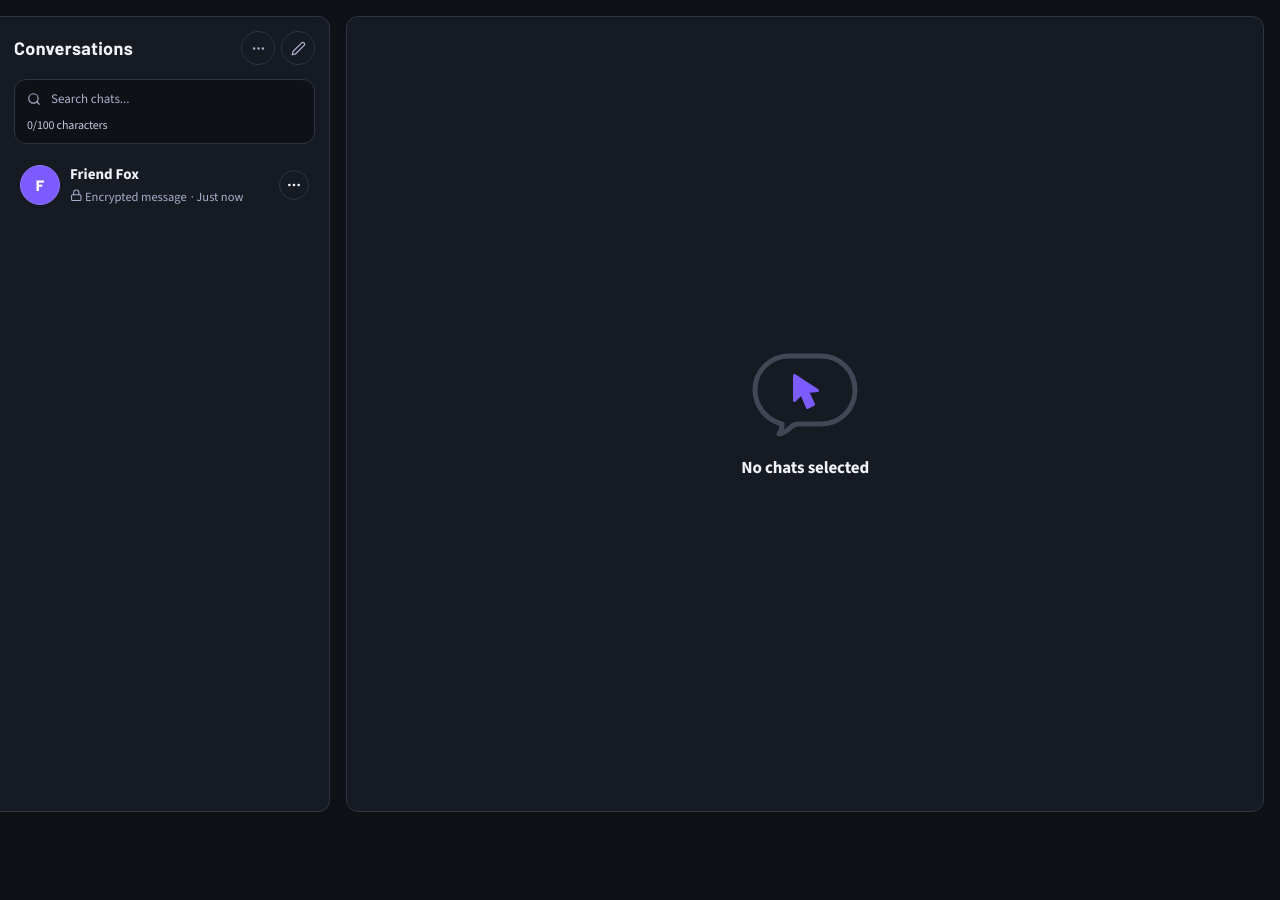
New chat and New group popups › closes with Escape
The width and height of the screenshot is (1280, 900).
Click the button named "New conversation": x=298, y=48 [281,31,315,65]
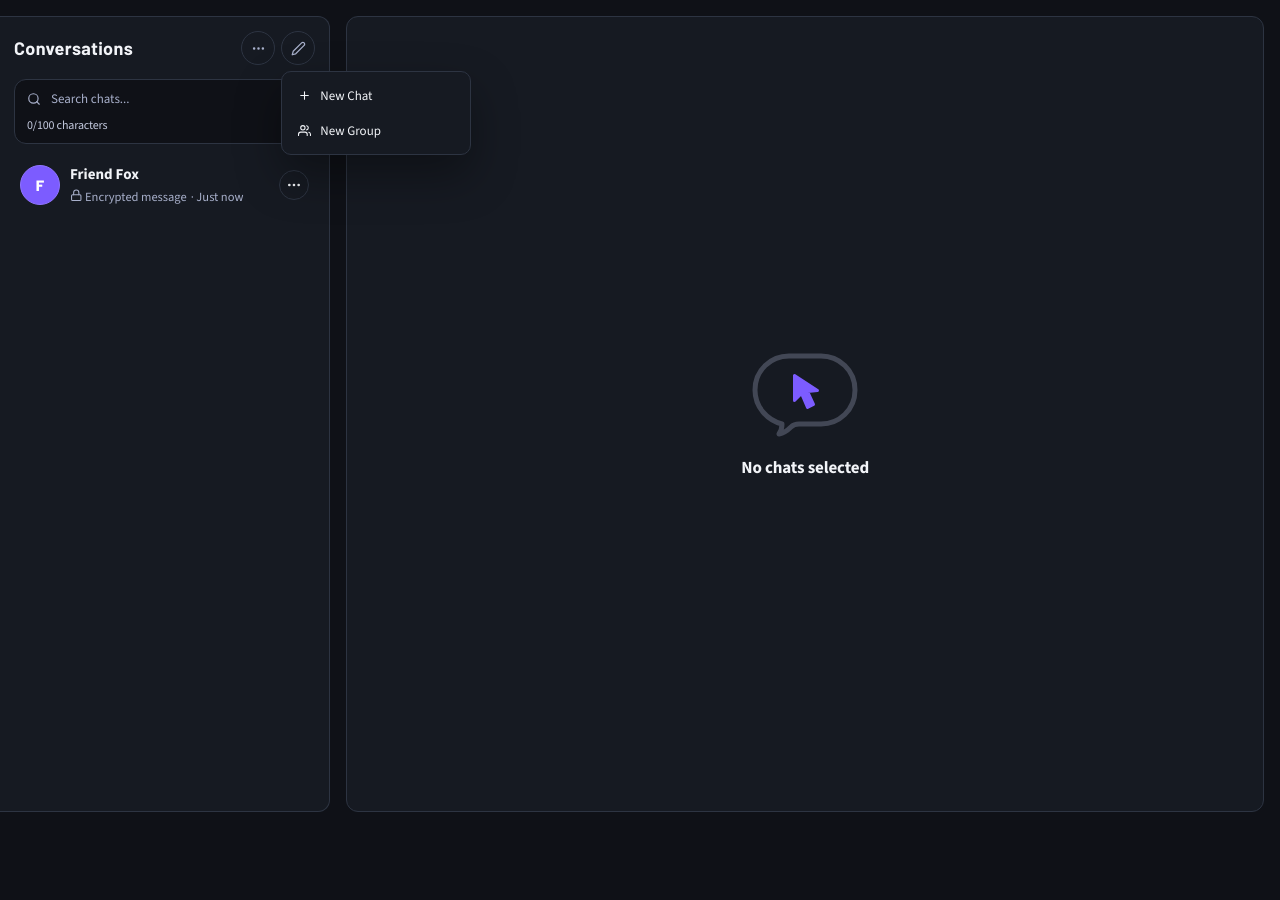
Click the menu item "New Chat": x=376, y=96 [288,78,464,113]
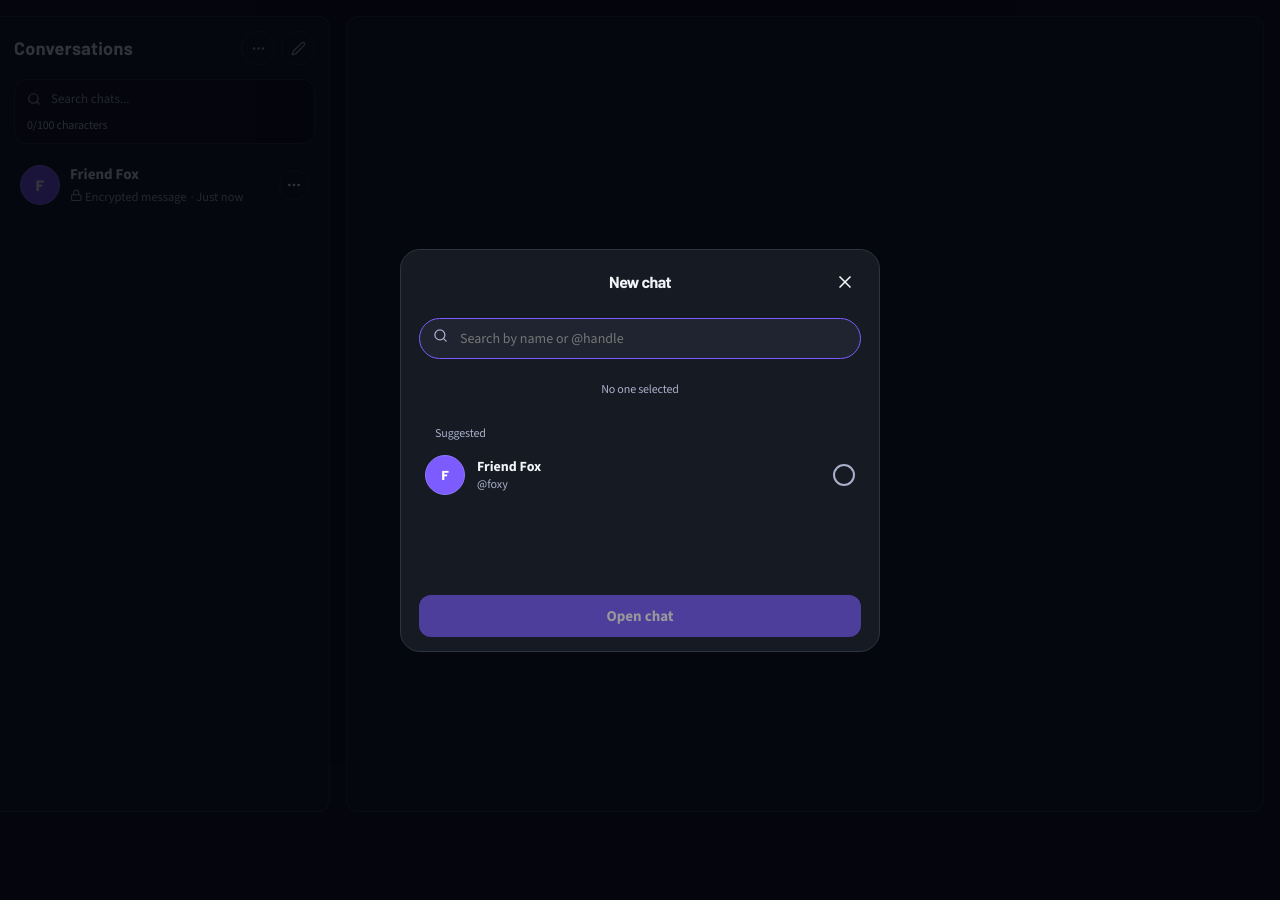
expect the dialog "New chat" is shown: met, box [400,248,880,652]
Press Escape
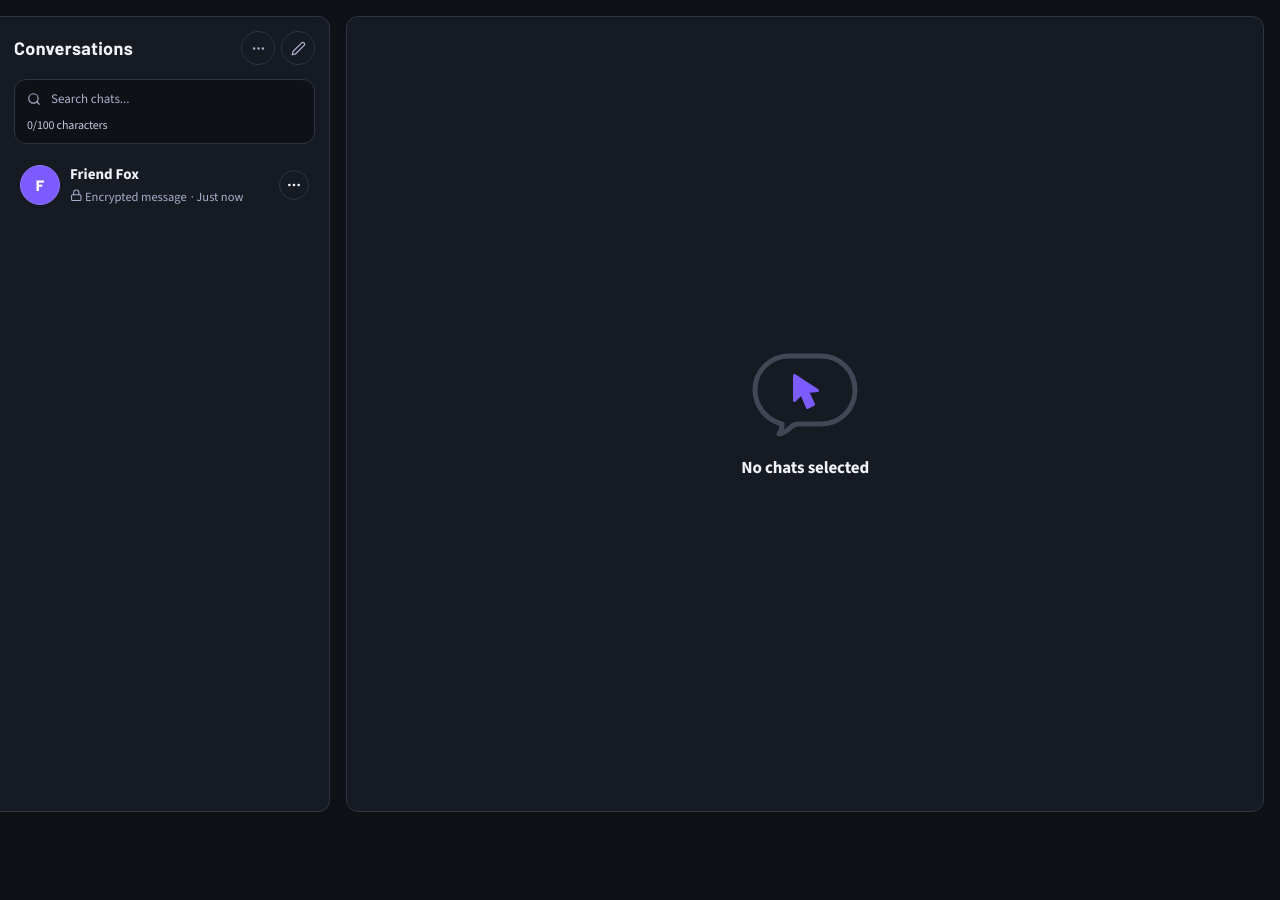
expect the heading "New chat" is gone: met
